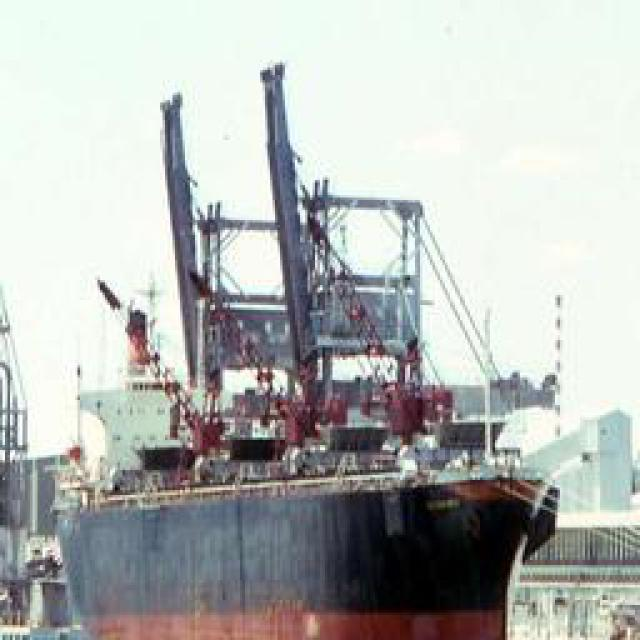Ship: (50, 60, 576, 640)
